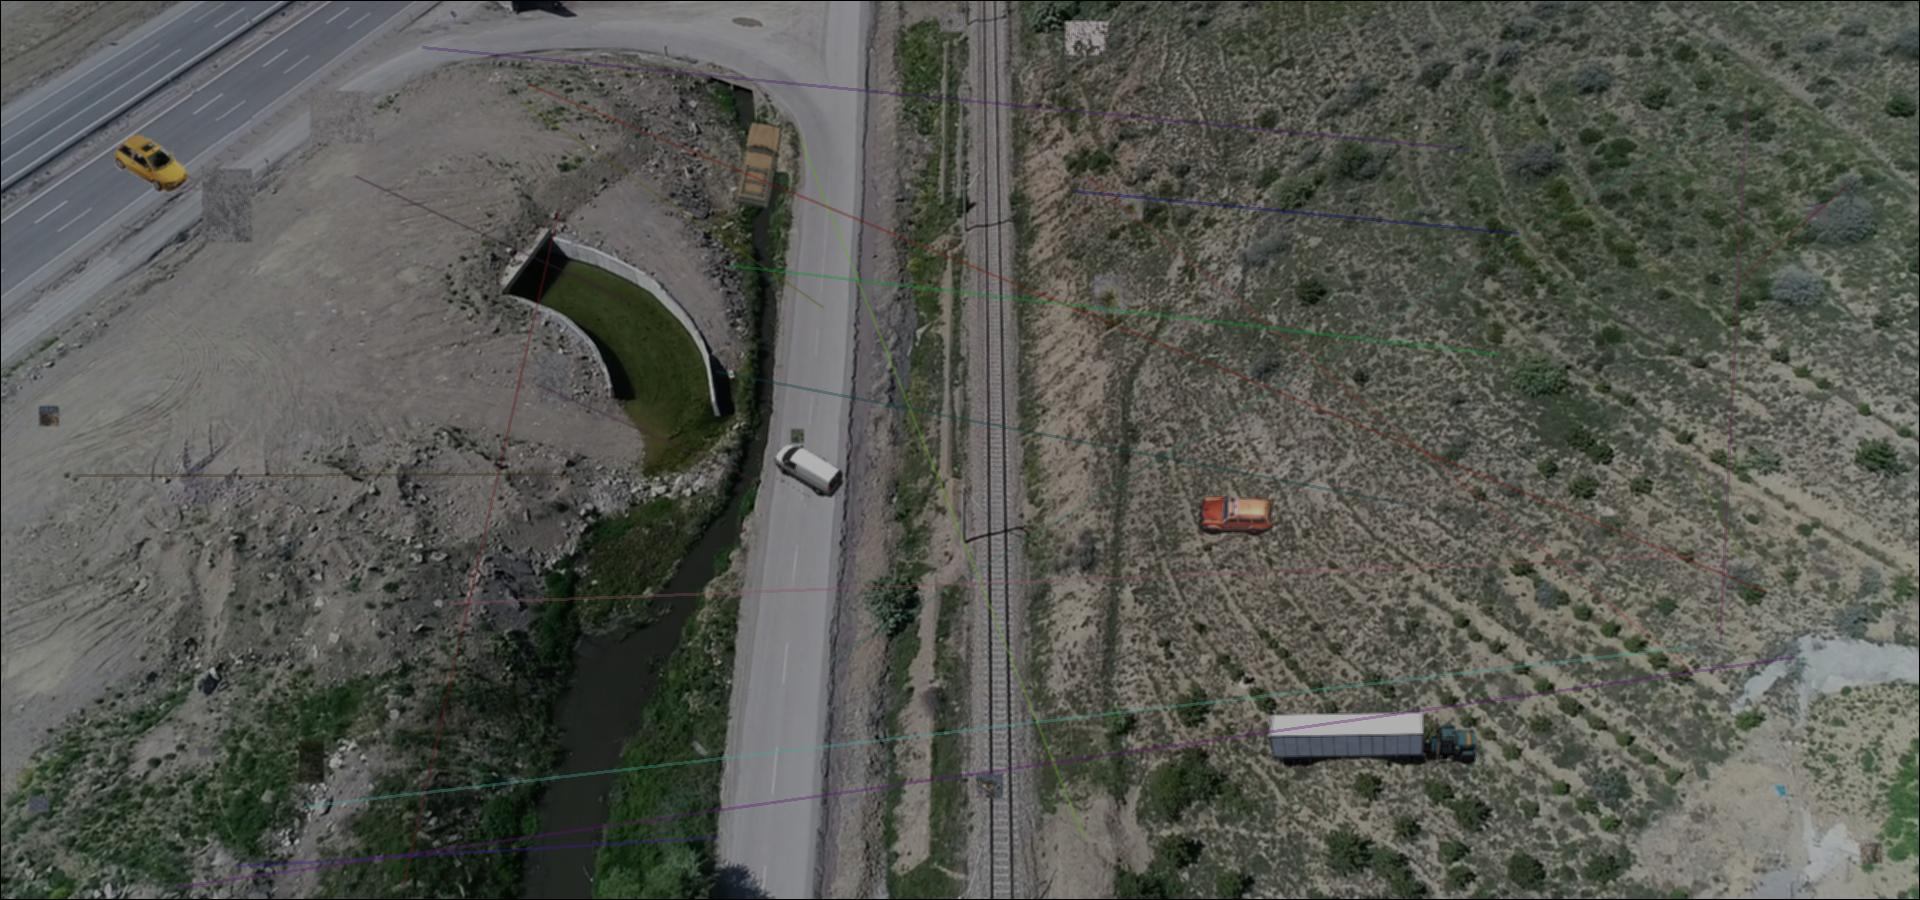arac: (1266, 711, 1478, 768), (115, 133, 189, 193), (735, 120, 782, 212), (774, 442, 844, 497), (1199, 493, 1273, 536)
